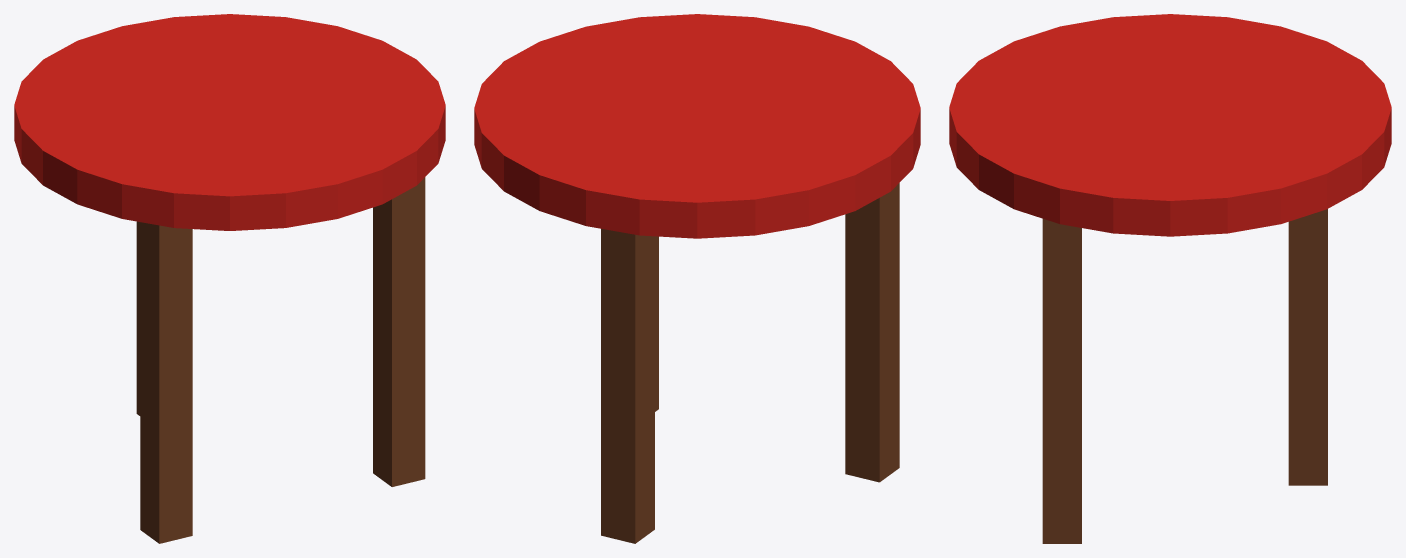
Rendered from stool.glb.
3 renders of one model, left to right at view 1: azimuth 30°, elevation 25°; view 2: azimuth 150°, elevation 25°; view 3: azimuth 270°, elevation 25°, orthographic. The views are drawn at different scales.
Visible parts, largest first — view 1: CodexTop, CodexLegA, CodexLegB, CodexLegC; view 2: CodexTop, CodexLegC, CodexLegA, CodexLegB; view 3: CodexTop, CodexLegB, CodexLegC.
Part boxes in pixels (box(x1,y1,x2,y2)): CodexTop: box(14, 14, 445, 230); CodexLegA: box(140, 222, 192, 543); CodexLegB: box(373, 177, 425, 486); CodexLegC: box(136, 221, 140, 415); CodexTop: box(474, 14, 920, 238); CodexLegC: box(601, 229, 654, 543); CodexLegA: box(845, 183, 899, 482); CodexLegB: box(655, 236, 658, 411); CodexTop: box(949, 14, 1391, 236); CodexLegB: box(1042, 219, 1081, 543); CodexLegC: box(1288, 209, 1327, 485).
Size of the model in its own units: 0.9 by 0.83 by 0.9.
